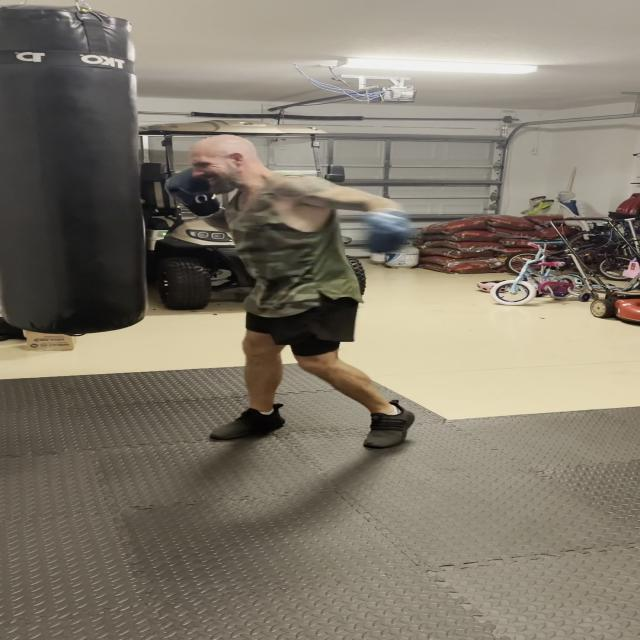bag: (0, 4, 142, 349)
hook: (102, 138, 420, 264)
